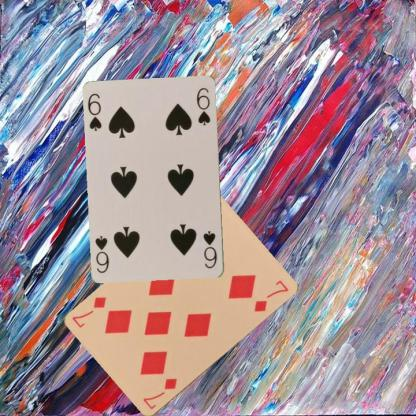6s: (201, 228, 219, 270), (85, 91, 103, 132)
7d: (140, 376, 178, 410)
